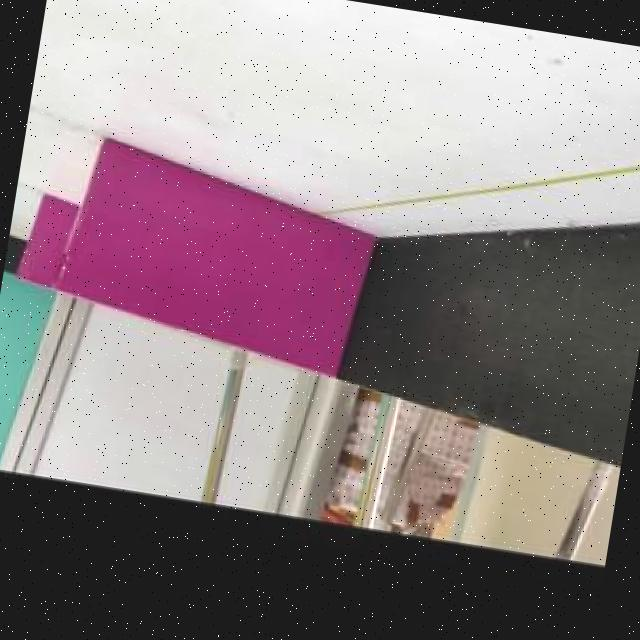xparking: (53, 134, 373, 372), (15, 190, 74, 288)
